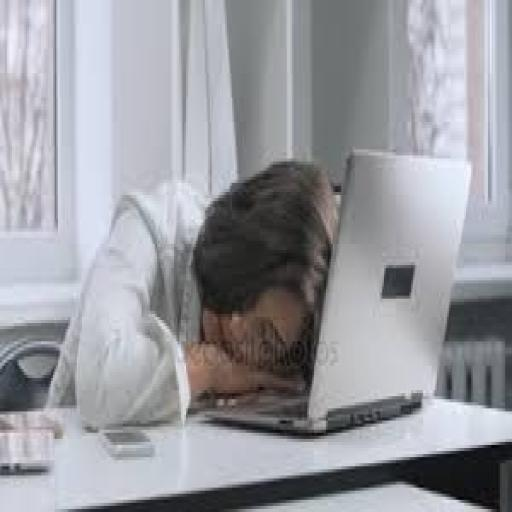sleeping: (43, 155, 341, 430)
